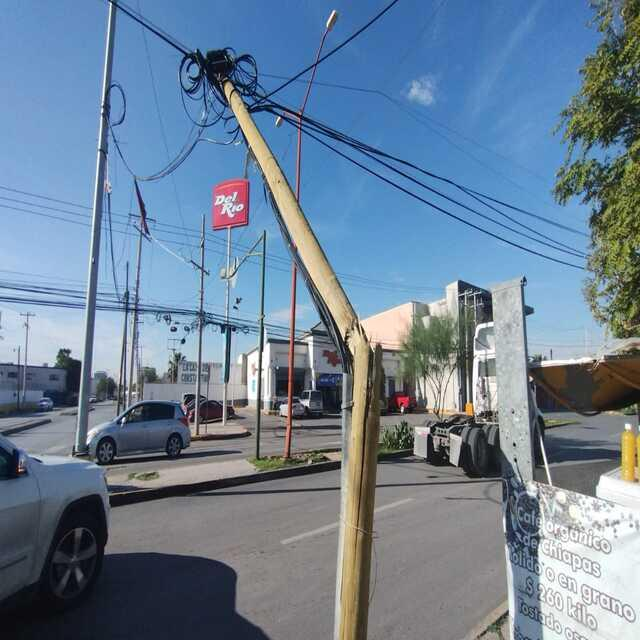Inclined Pole: (180, 45, 387, 640)
